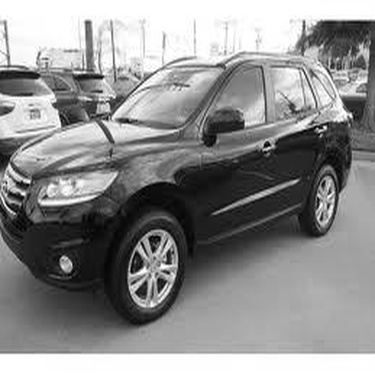car: (6, 40, 359, 304), (31, 52, 130, 112), (1, 61, 74, 137), (329, 63, 371, 115)
